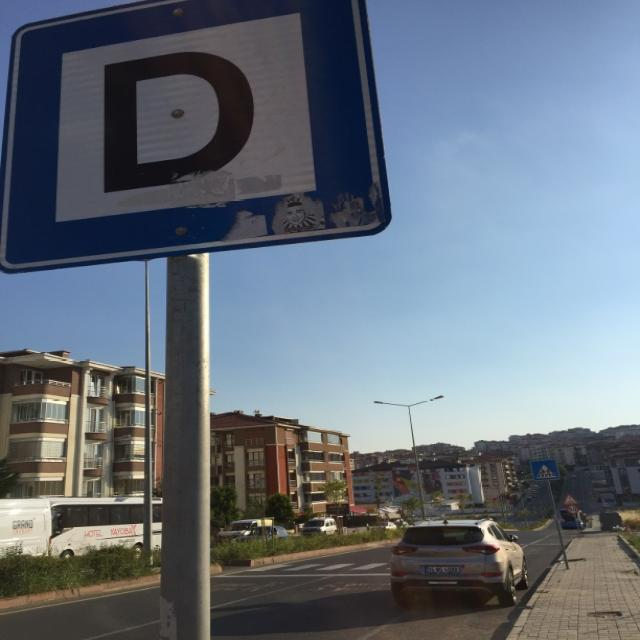durak: (2, 0, 399, 274)
